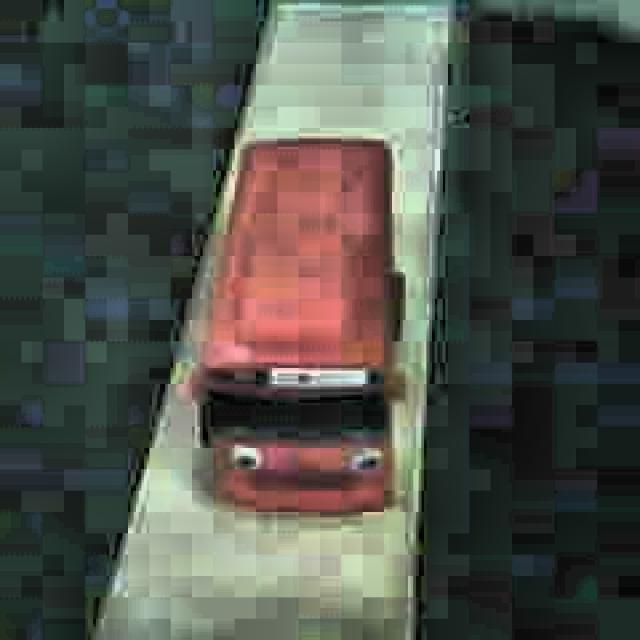bus: (191, 137, 409, 522)
